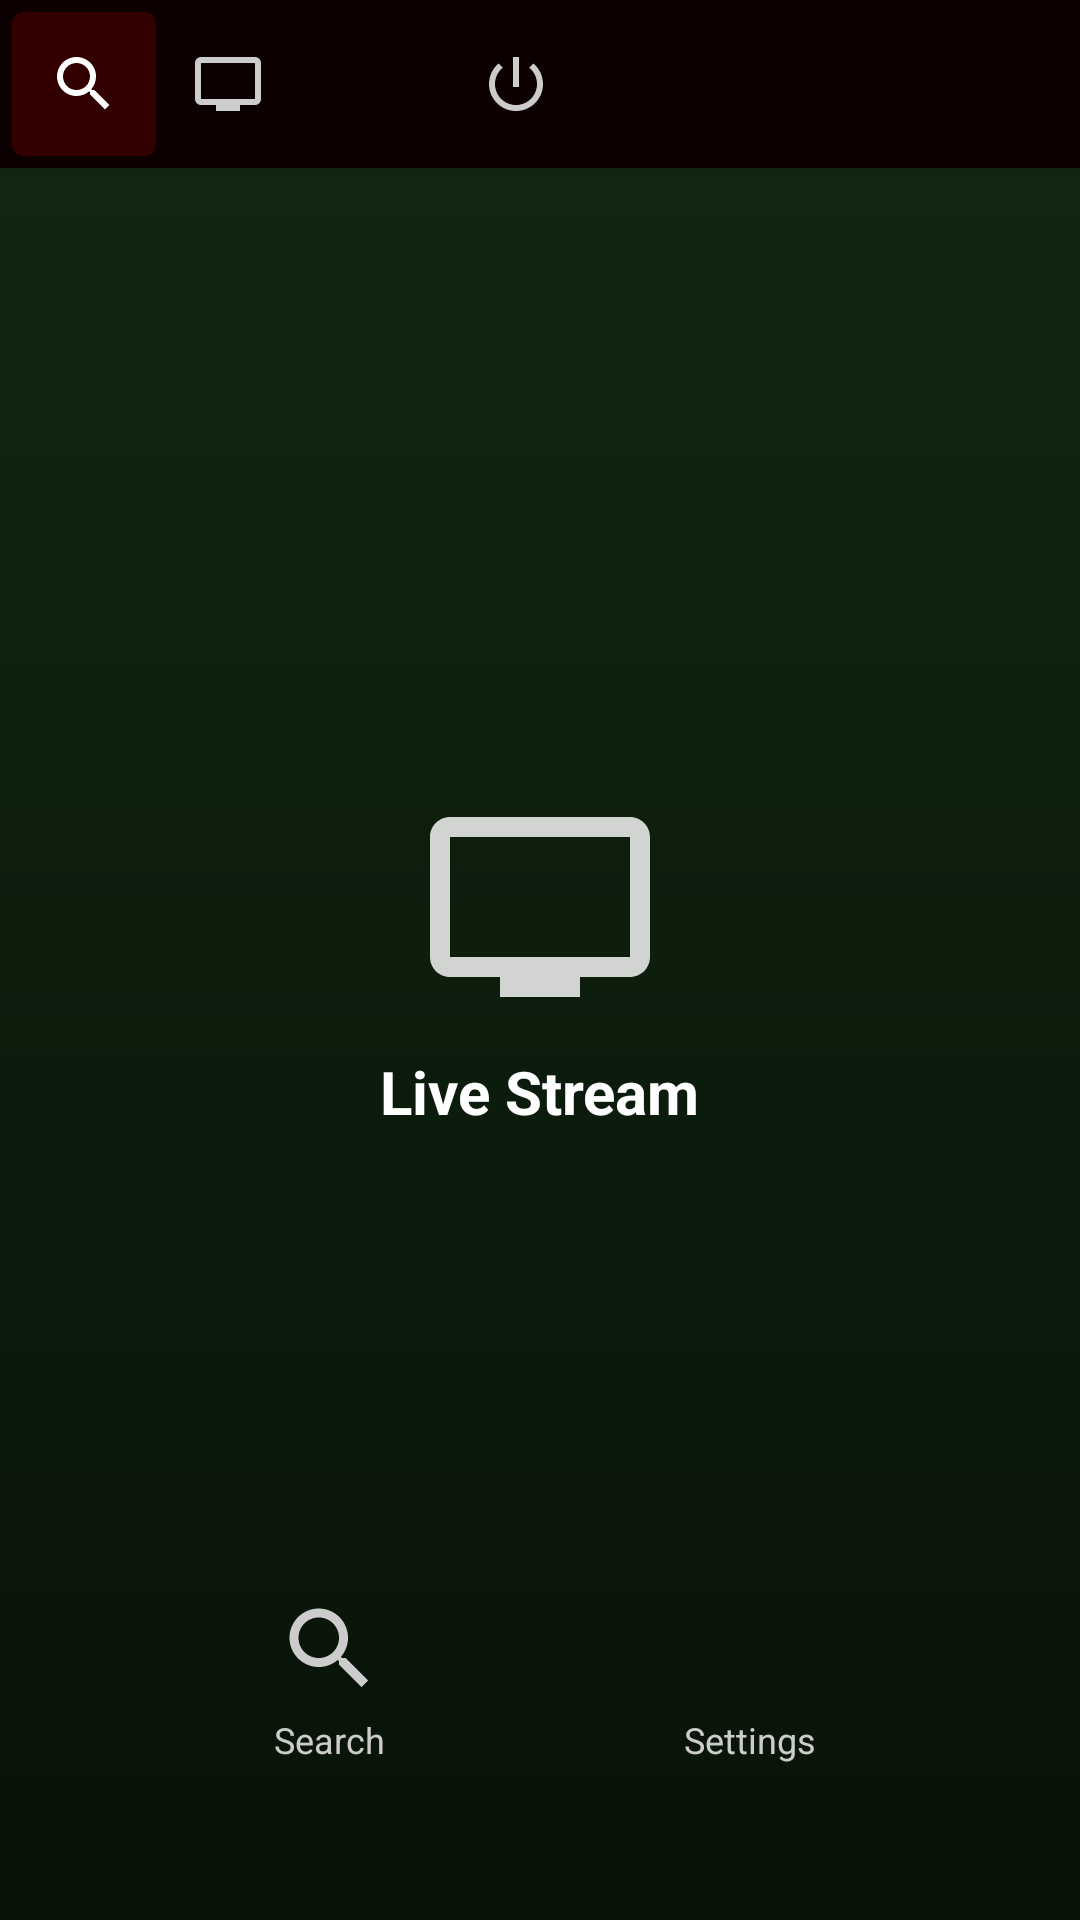

Named icons in this screenshot (1080px x 1920px) and their centers, point (x, y):
Exit: point (516, 84)
